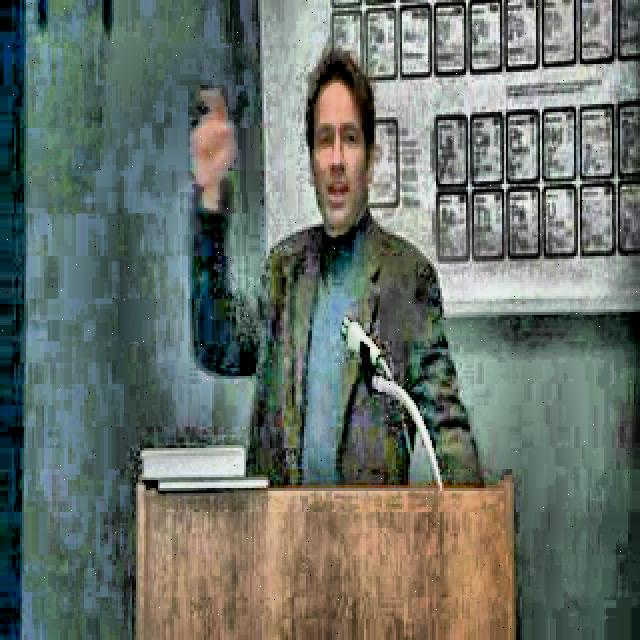T: (157, 31, 491, 502)
